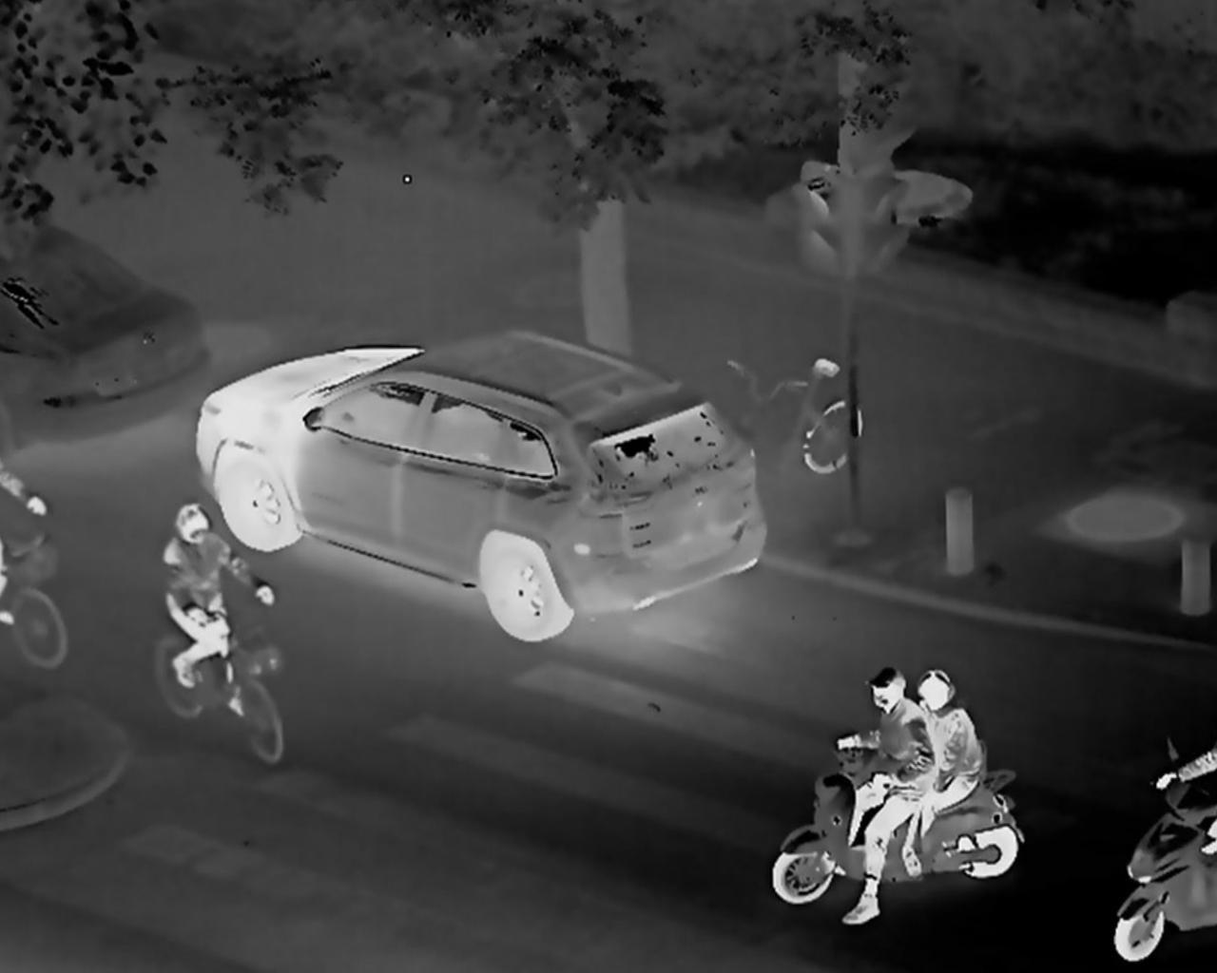person: (823, 662, 931, 923), (154, 505, 273, 713), (902, 666, 976, 876)
